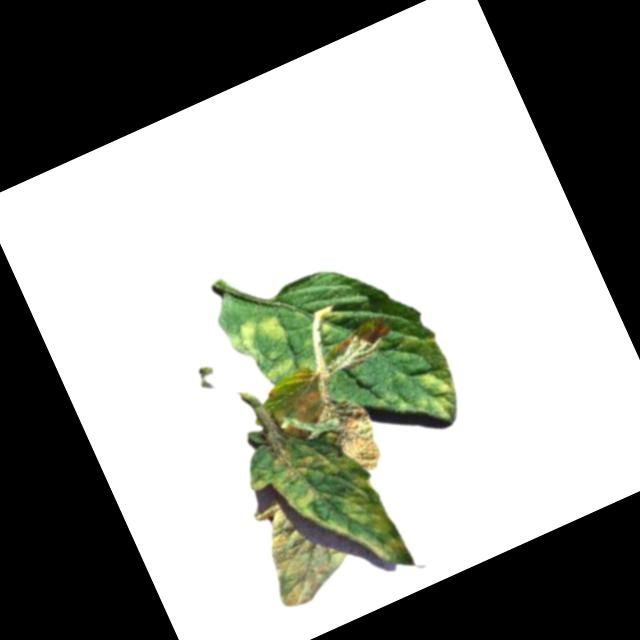Leaf_Mold: (247, 492, 354, 611), (239, 423, 356, 515), (326, 464, 414, 583), (388, 325, 472, 434), (216, 306, 302, 394), (317, 388, 391, 481)
